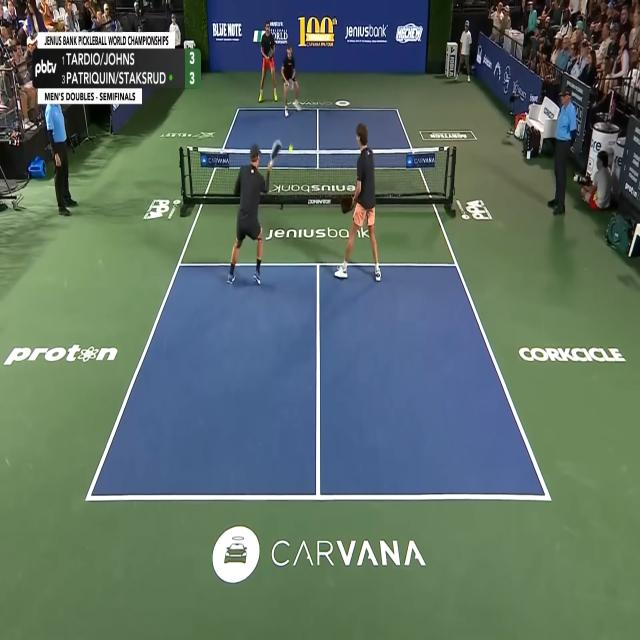ball: (288, 144, 294, 152)
